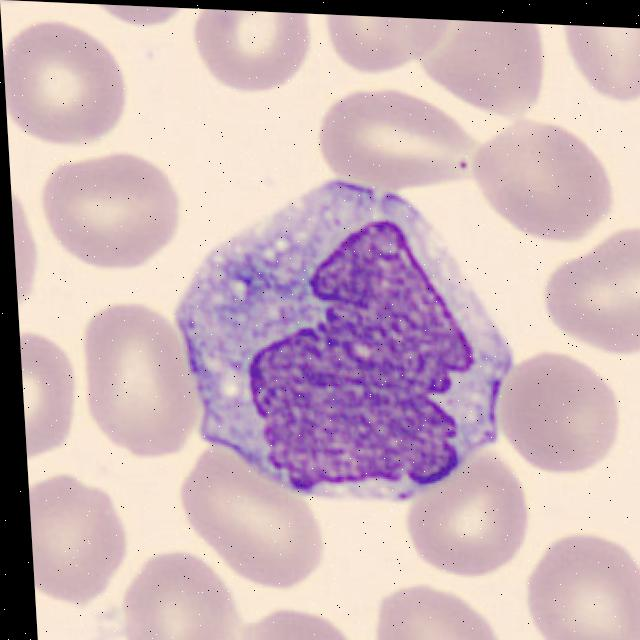monocyte: (153, 160, 536, 504)
rbc: (173, 446, 354, 602), (465, 110, 622, 246), (72, 297, 207, 455), (305, 87, 492, 200), (38, 143, 204, 269), (1, 9, 138, 153), (412, 19, 573, 138), (405, 446, 546, 581), (27, 461, 128, 640), (499, 349, 623, 479), (536, 213, 640, 365), (185, 8, 324, 109), (520, 527, 640, 640), (115, 547, 237, 640), (322, 14, 455, 88), (372, 574, 521, 640), (19, 324, 83, 464), (239, 574, 371, 640), (95, 4, 190, 35)
